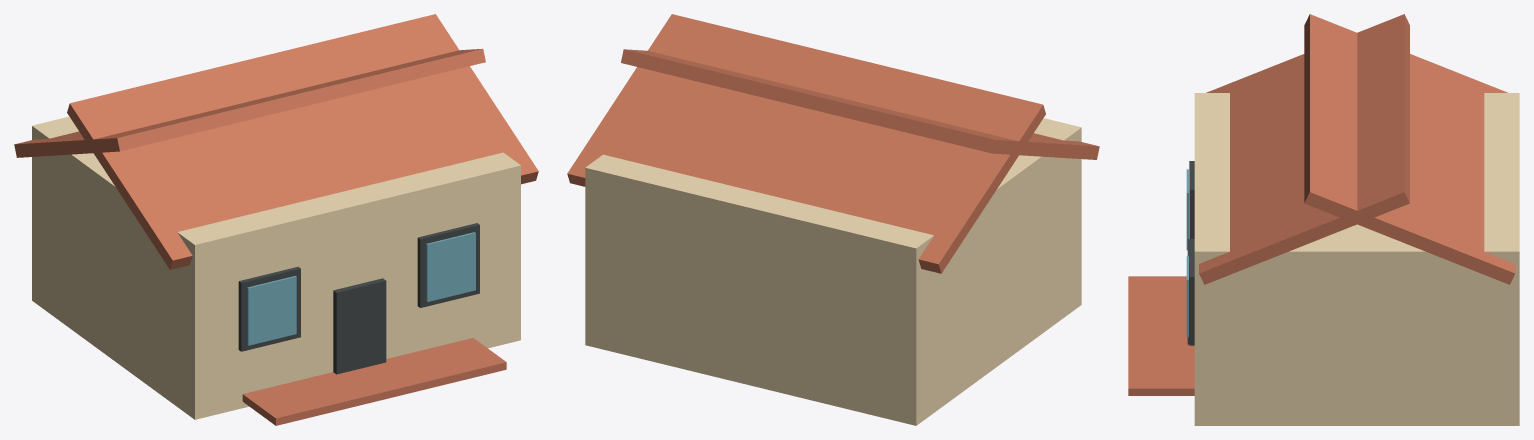
The model's file is kerala-house.glb.
3 renders of one model, left to right at view 1: azimuth 30°, elevation 25°; view 2: azimuth 150°, elevation 25°; view 3: azimuth 270°, elevation 25°, orthographic.
Visible parts, largest first — view 1: walls, roofA, porch, roofB, door, glass2.25, glass-2.25, frame-2.25, frame2.25; view 2: walls, roofB, roofA; view 3: walls, roofB, roofA, porch, frame2.25, frame-2.25.
Boxes of the visible parts, <box> form: walls: <box>32,116,520,419</box>; roofA: <box>67,14,538,269</box>; porch: <box>242,338,506,425</box>; roofB: <box>14,48,485,157</box>; door: <box>333,278,386,374</box>; glass2.25: <box>426,232,475,301</box>; glass-2.25: <box>247,276,296,345</box>; frame-2.25: <box>238,266,300,351</box>; frame2.25: <box>417,223,479,307</box>; walls: <box>585,118,1081,425</box>; roofB: <box>567,14,1045,273</box>; roofA: <box>621,49,1099,159</box>; walls: <box>1194,93,1519,425</box>; roofB: <box>1304,14,1515,284</box>; roofA: <box>1199,14,1409,284</box>; porch: <box>1128,276,1194,395</box>; frame2.25: <box>1189,248,1194,345</box>; frame-2.25: <box>1189,161,1194,238</box>.
Bounding box in the file's own units: 9.2 × 5.87 × 8.55.
